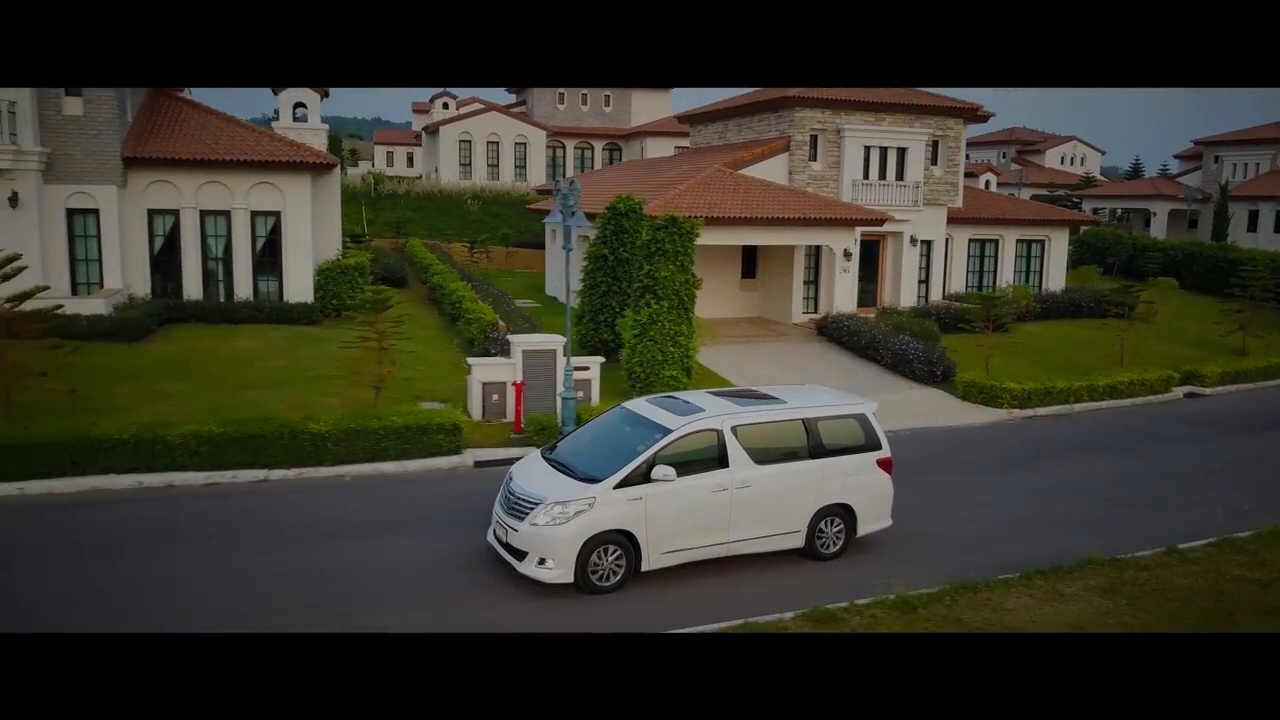araba: (486, 380, 901, 593)
